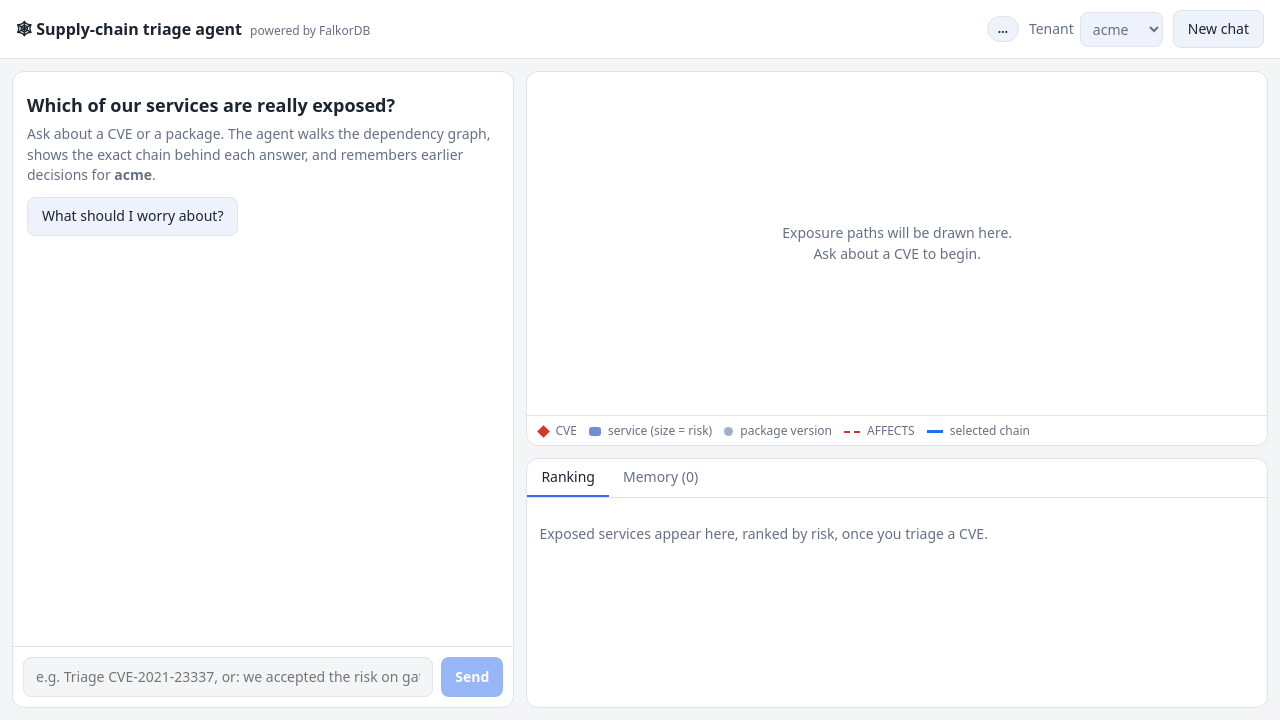
Test: triage UI › typing a message and pressing Send posts it
Replace the text in the field named "Message the triage agent" with "we accepted the risk on batch" at (228, 677), box top-left (23, 657), bottom-right (433, 697)
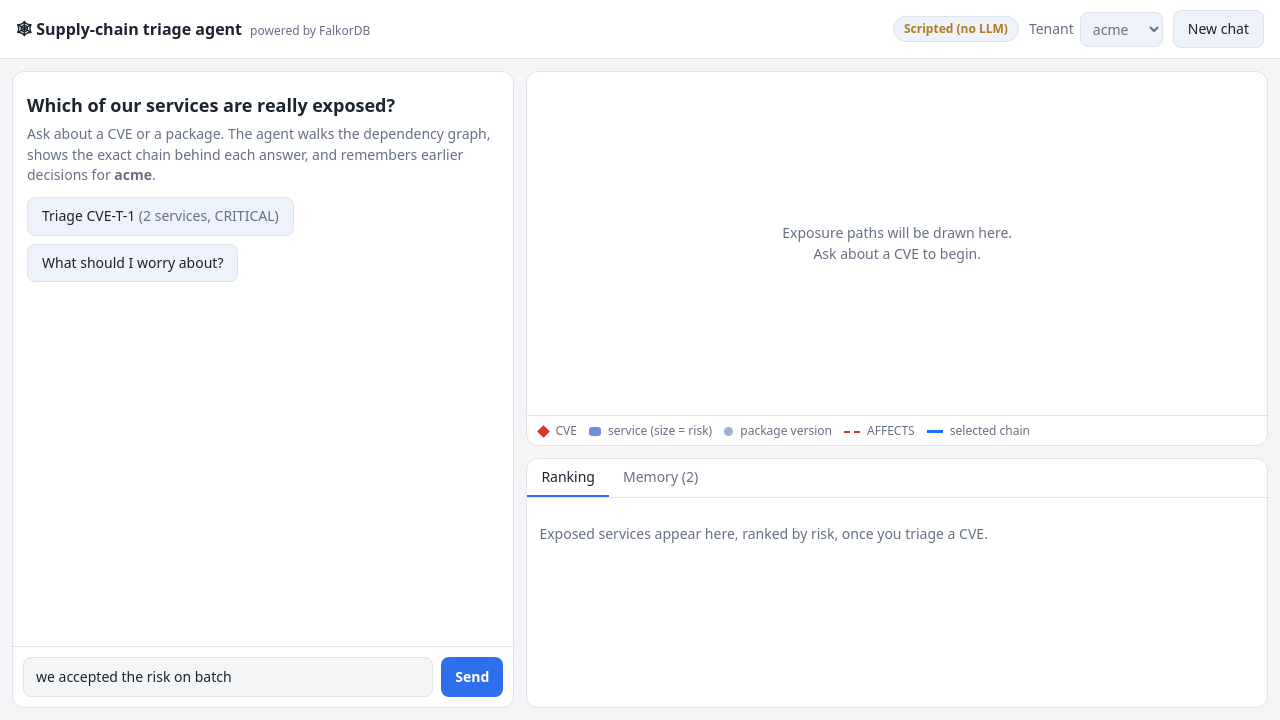
Click the button "Send" at (472, 677), box top-left (441, 657), bottom-right (503, 697)
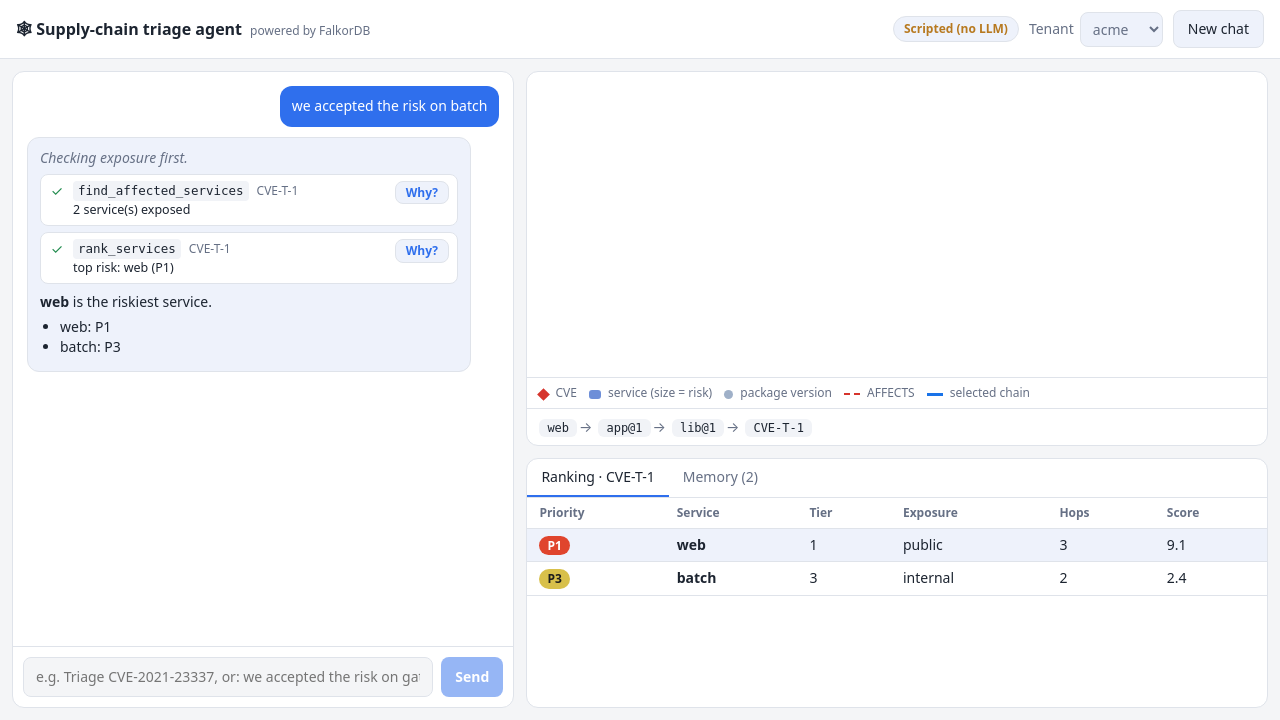
Expected: the text "web is the riskiest service." is shown, top-left (40, 292), bottom-right (212, 311)
Expected: the text "we accepted the risk on batch" is shown, top-left (280, 86), bottom-right (499, 127)
Expected: the field named "Message the triage agent" is empty, top-left (23, 657), bottom-right (433, 697)
